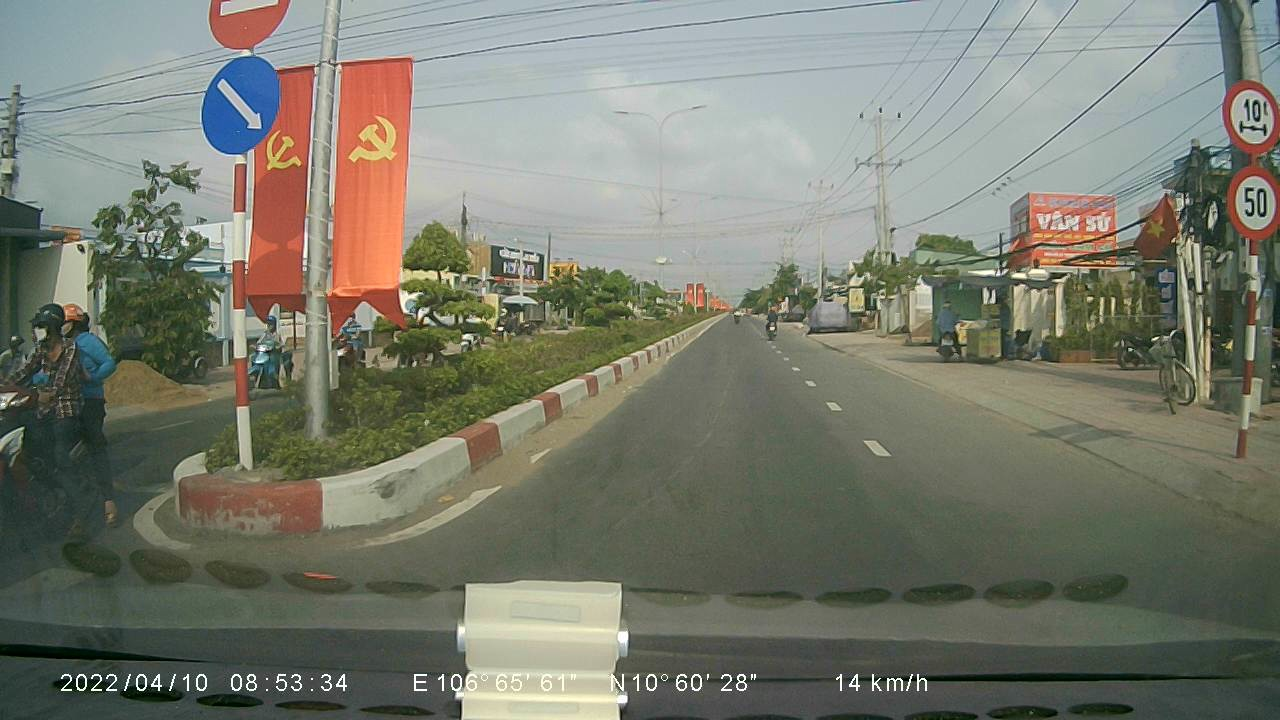Bien khac: (1219, 75, 1280, 158), (1222, 162, 1280, 243)
Huong di phai re phai: (198, 53, 282, 155)
